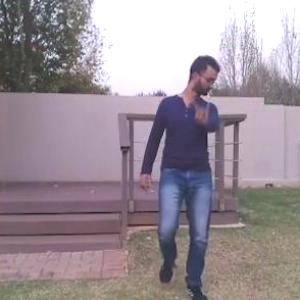takeoff-hand: (192, 88, 217, 123)
